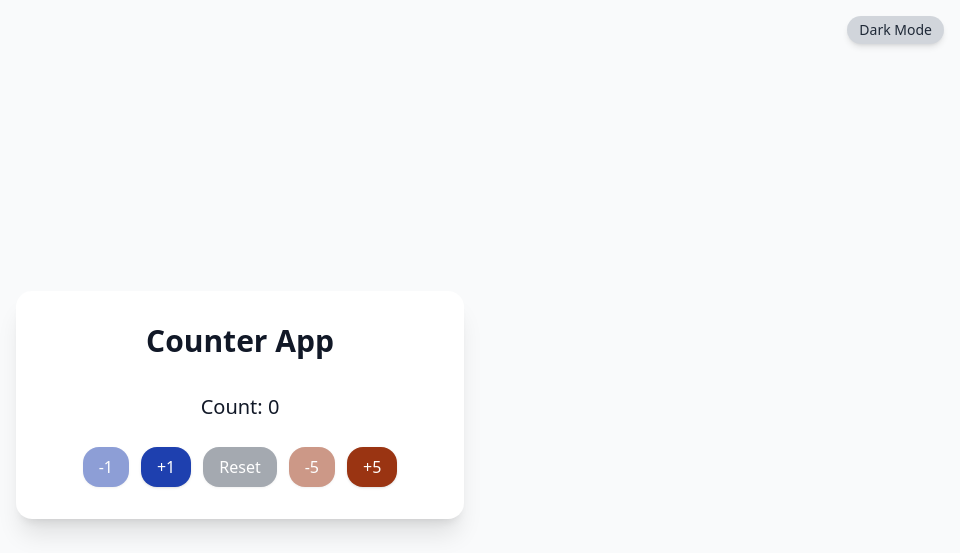
Counter App › increments the count by 1 when +1 button is clicked
Click the button "+1" at (166, 467), box [141,447,191,487]
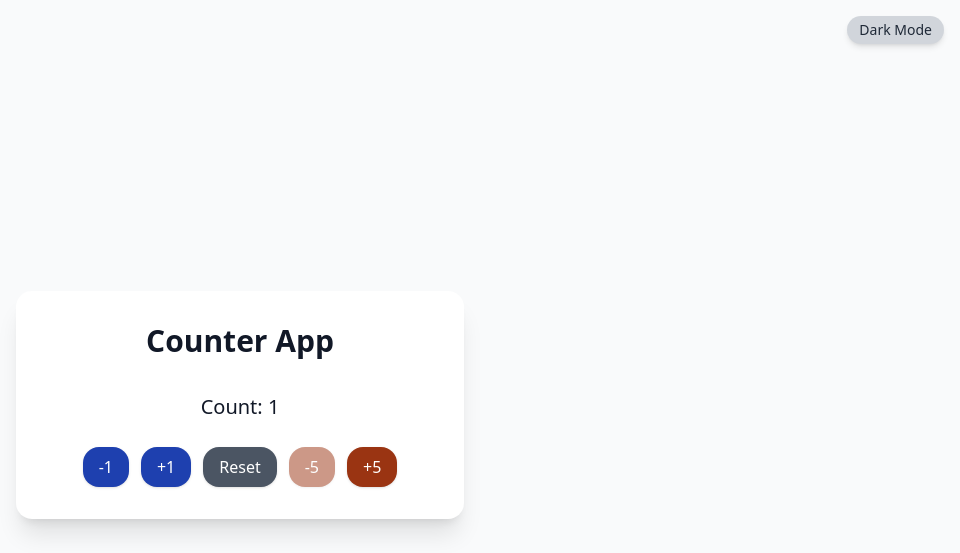
Expected: the text "Count: 1" is shown, [201,393,279,421]
Click the button "+1" at (166, 467), box [141,447,191,487]
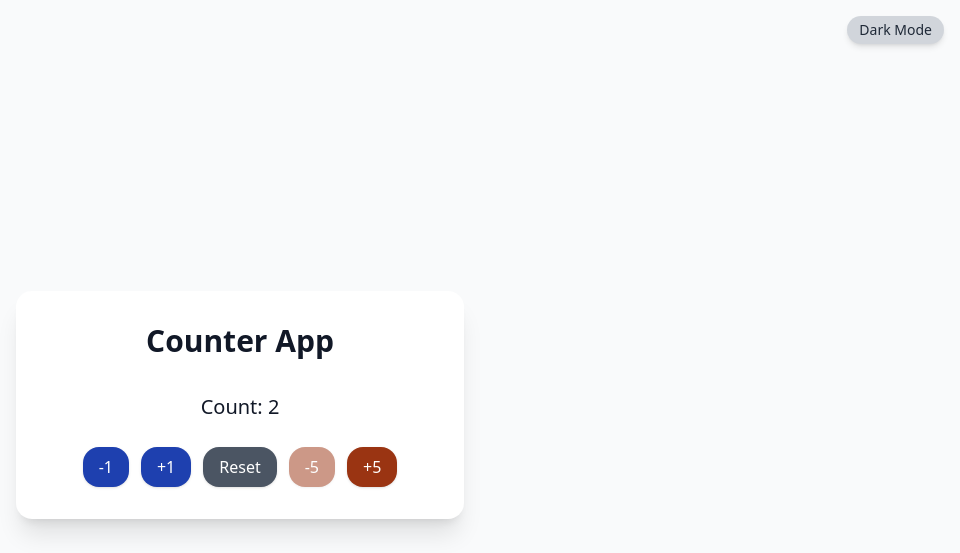
Expected: the text "Count: 2" is shown, [201,393,279,421]
